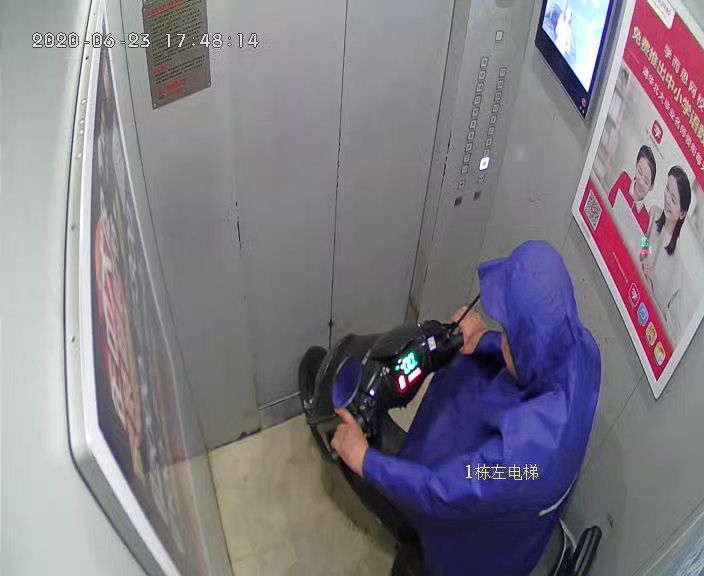Electric-bicycle: (295, 314, 598, 574)
